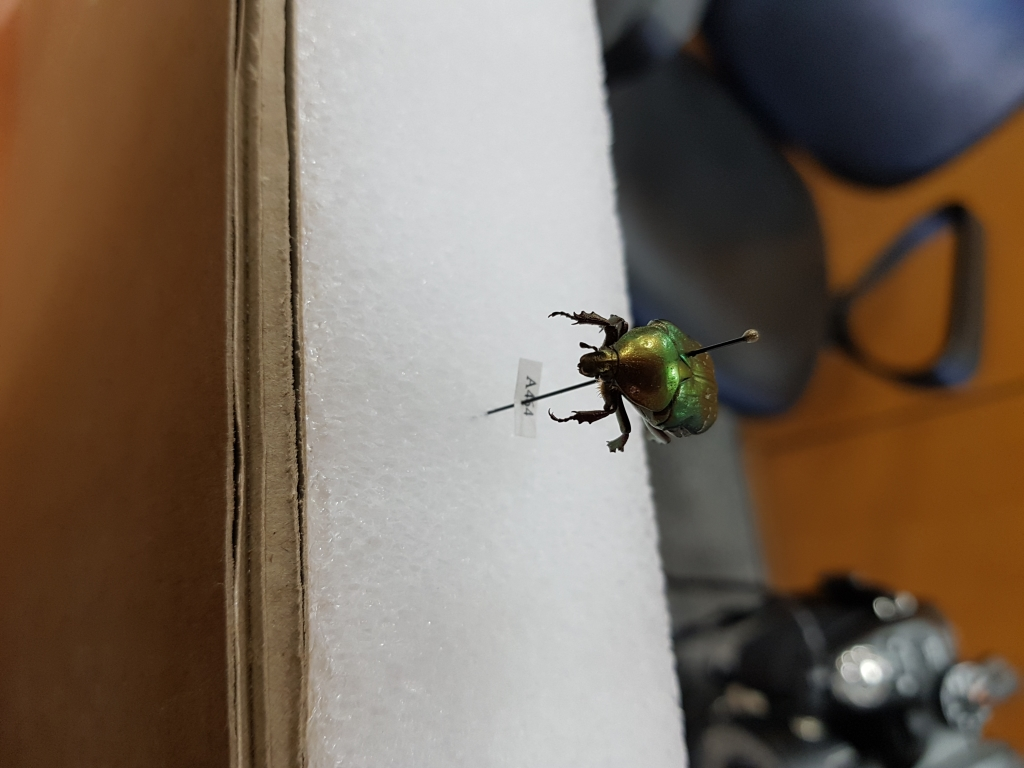Cetonia_kemali: (545, 299, 723, 460)
